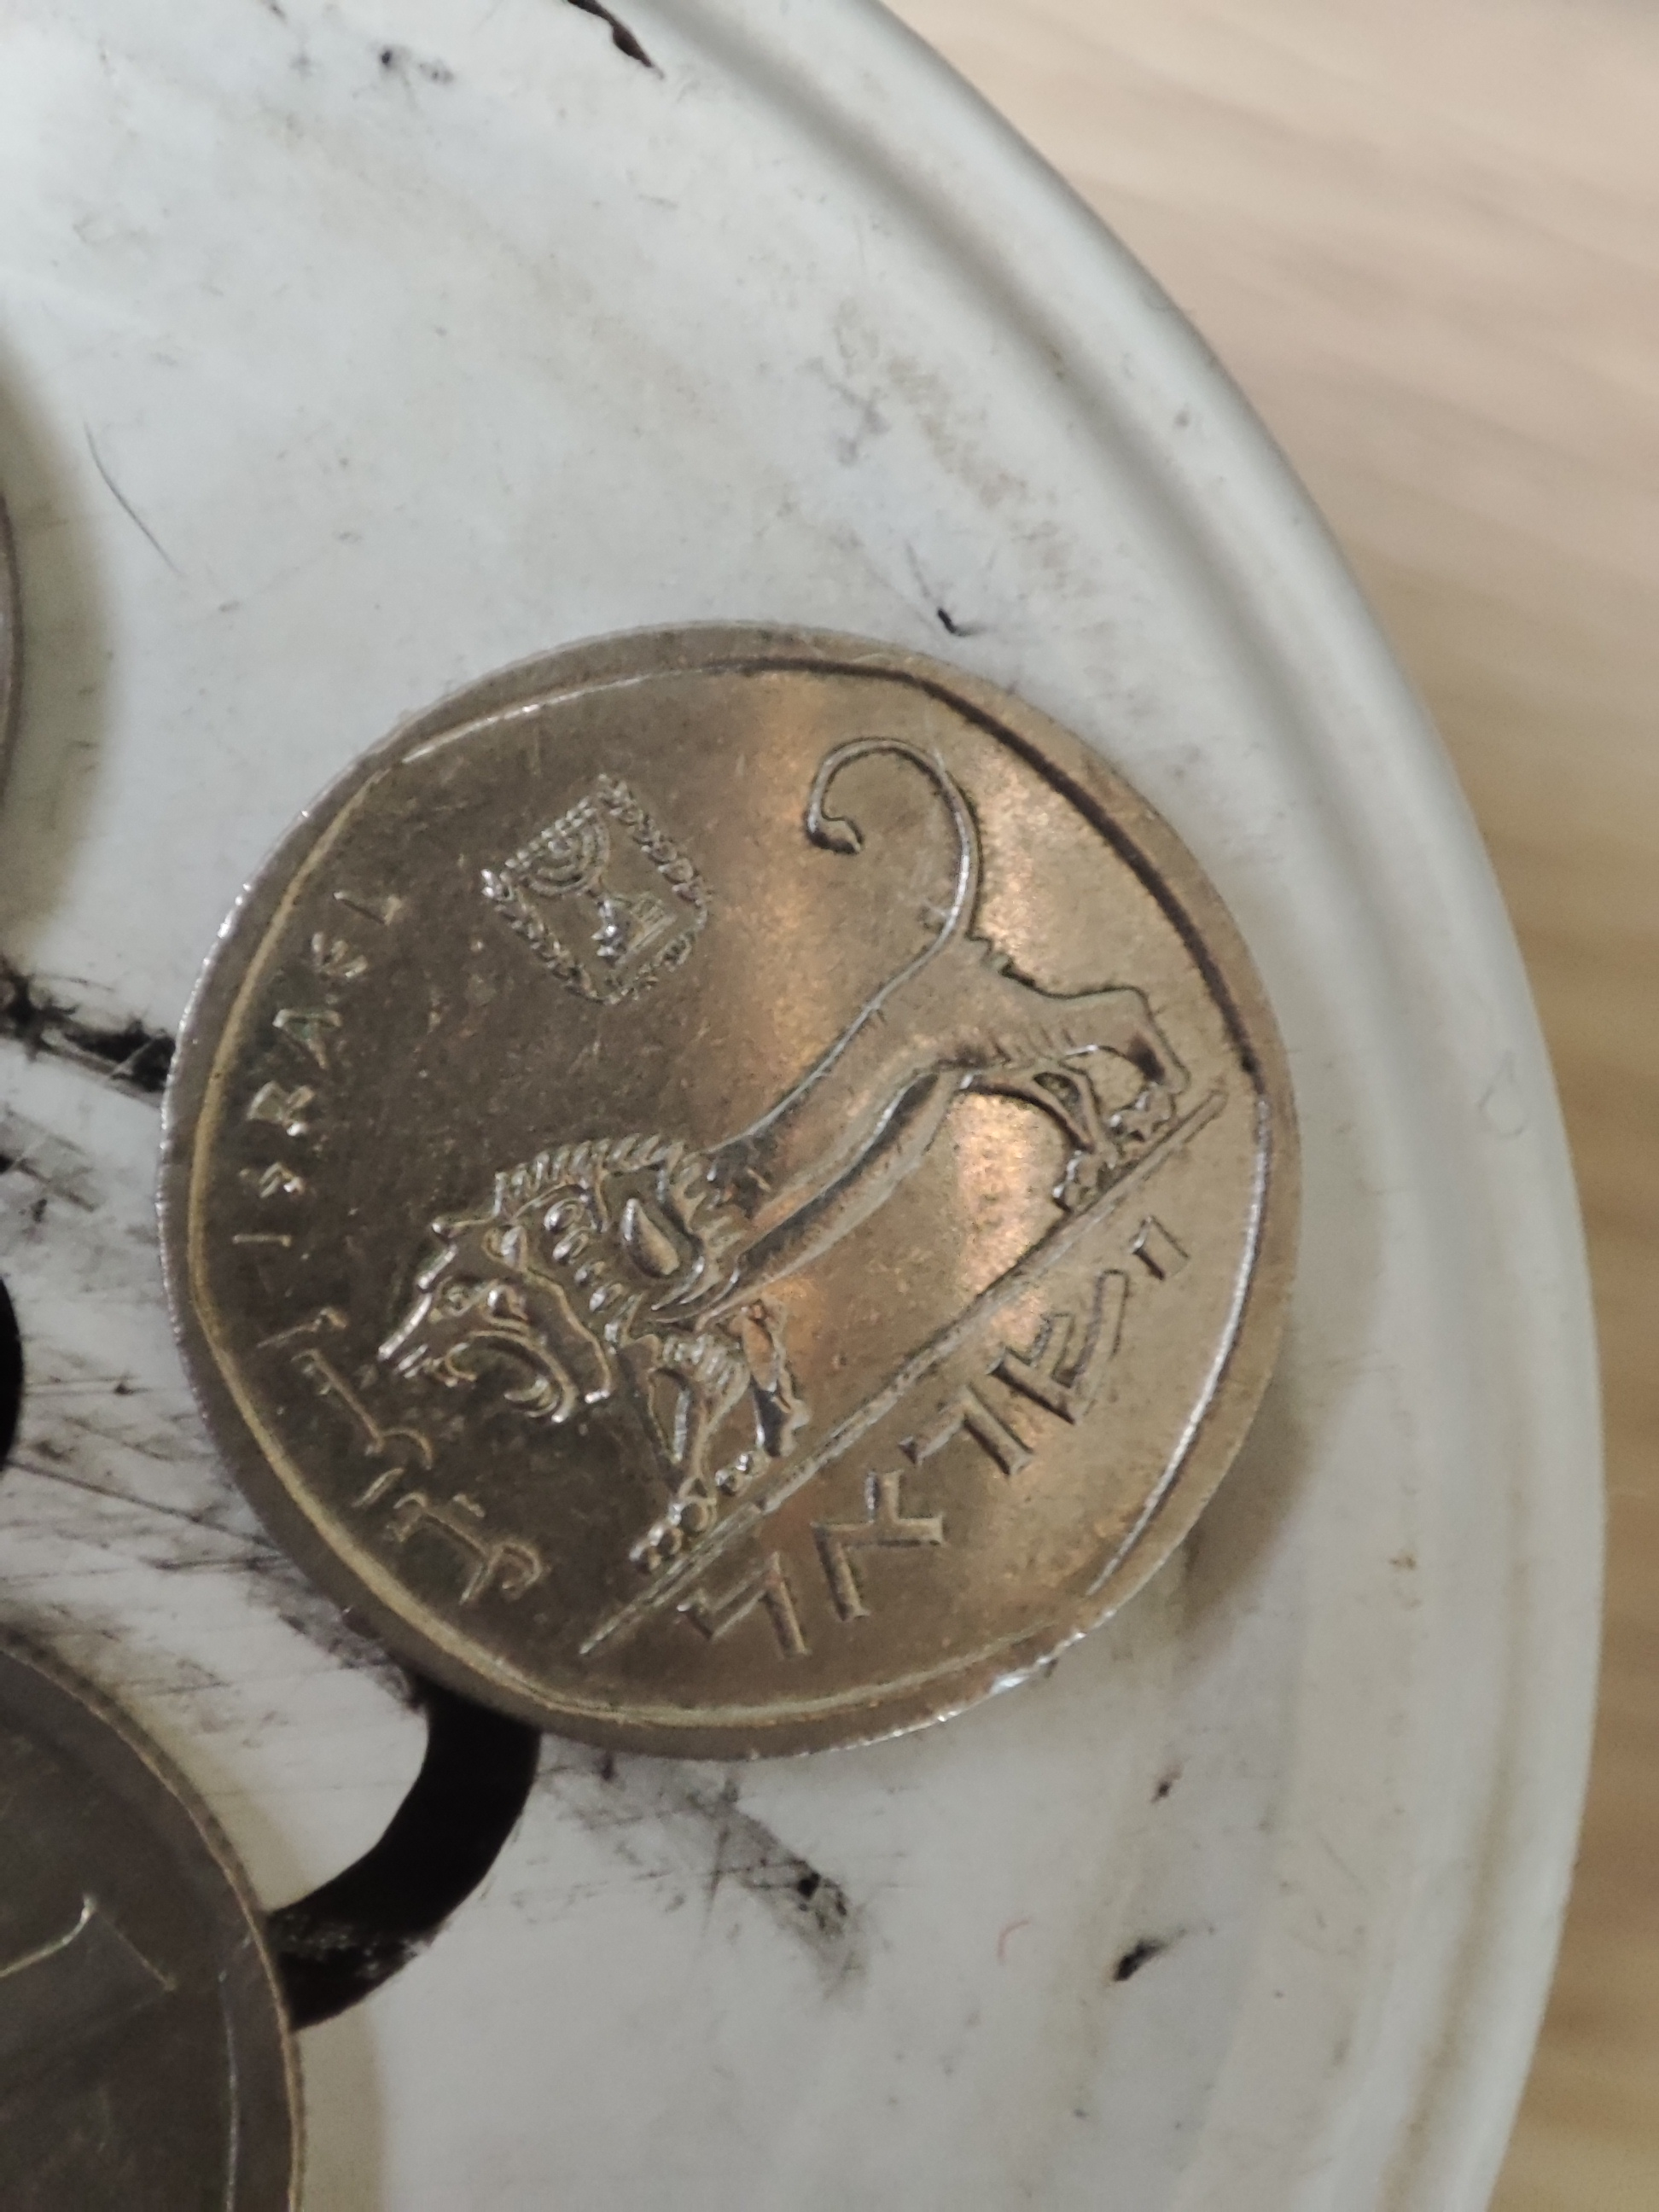1/2 old sheqel: (152, 606, 1321, 1778)
